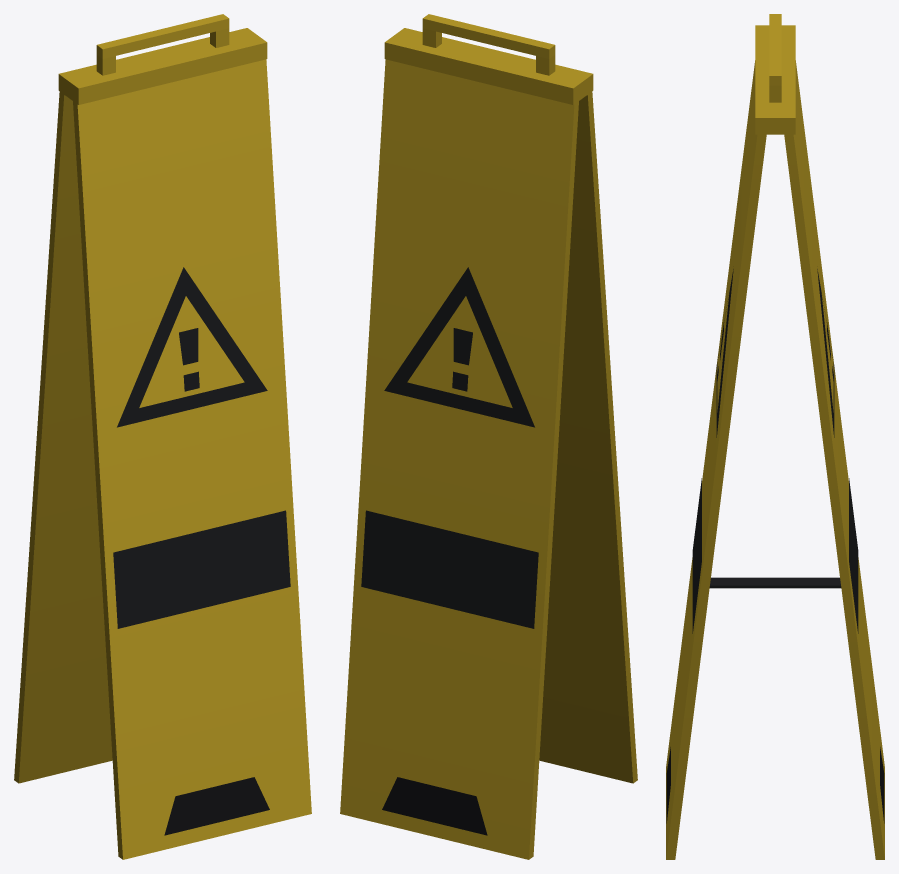
File: sign.warning.wet_floor.glb
3 views of the same model, side by side, from view 1: azimuth 30°, elevation 25°; view 2: azimuth 150°, elevation 25°; view 3: azimuth 270°, elevation 25° (orthographic).
Parts seen in each view (by area): view 1: sign_warning_wet_floor; view 2: sign_warning_wet_floor; view 3: sign_warning_wet_floor.
Part boxes in pixels (x1,y1,x2,y2): sign_warning_wet_floor: (14, 14, 311, 859); sign_warning_wet_floor: (340, 14, 637, 859); sign_warning_wet_floor: (666, 14, 884, 859).
Size of what is drawn, in the model's own units: 0.284 by 1.1 by 0.284.
